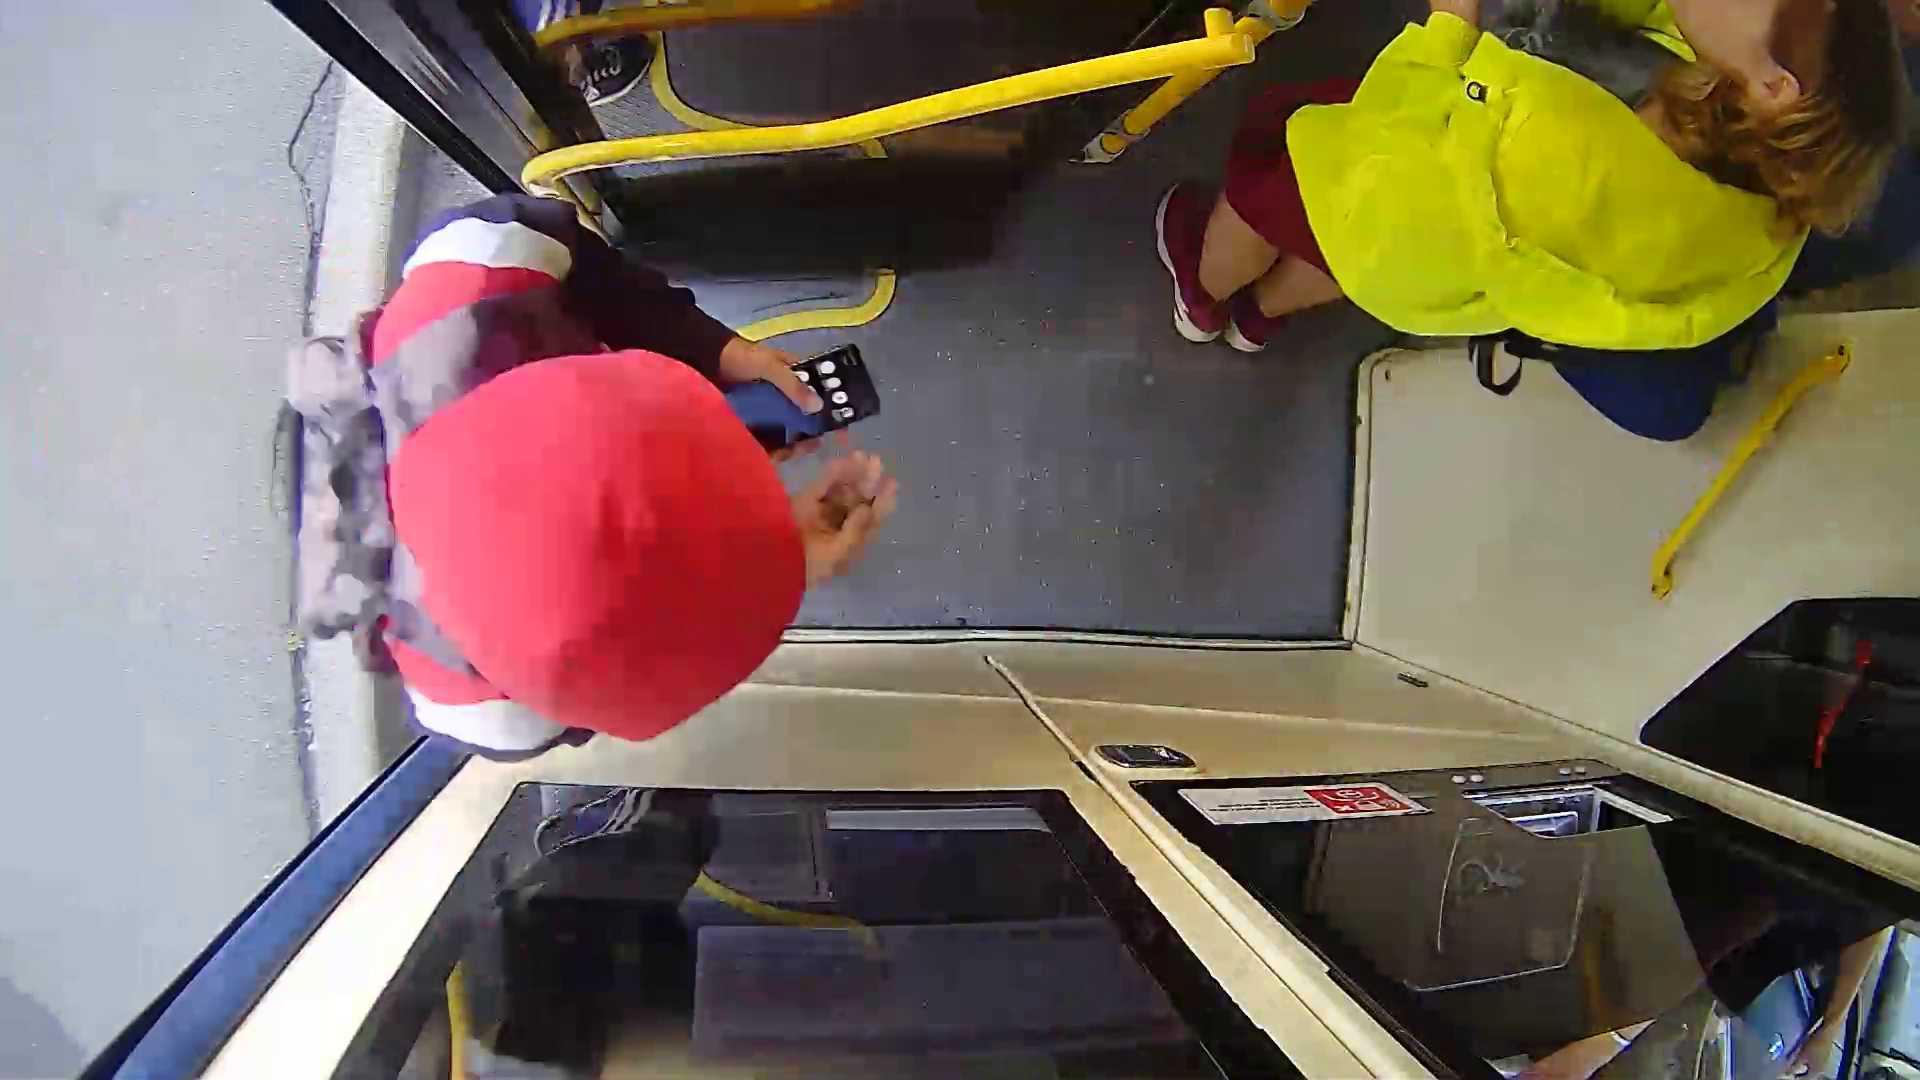person: (279, 186, 1070, 741)
